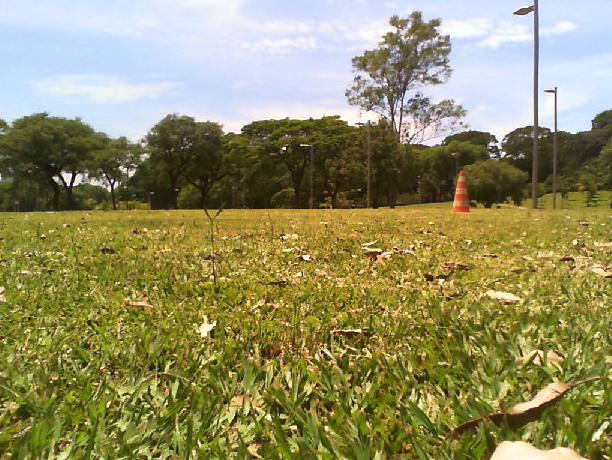0 cone: (453, 170, 473, 214)
